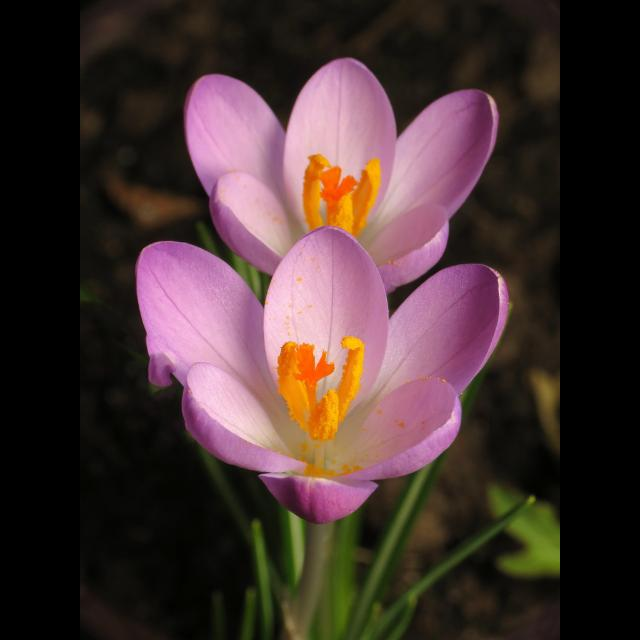Flower: (129, 230, 505, 522), (179, 59, 501, 280)
